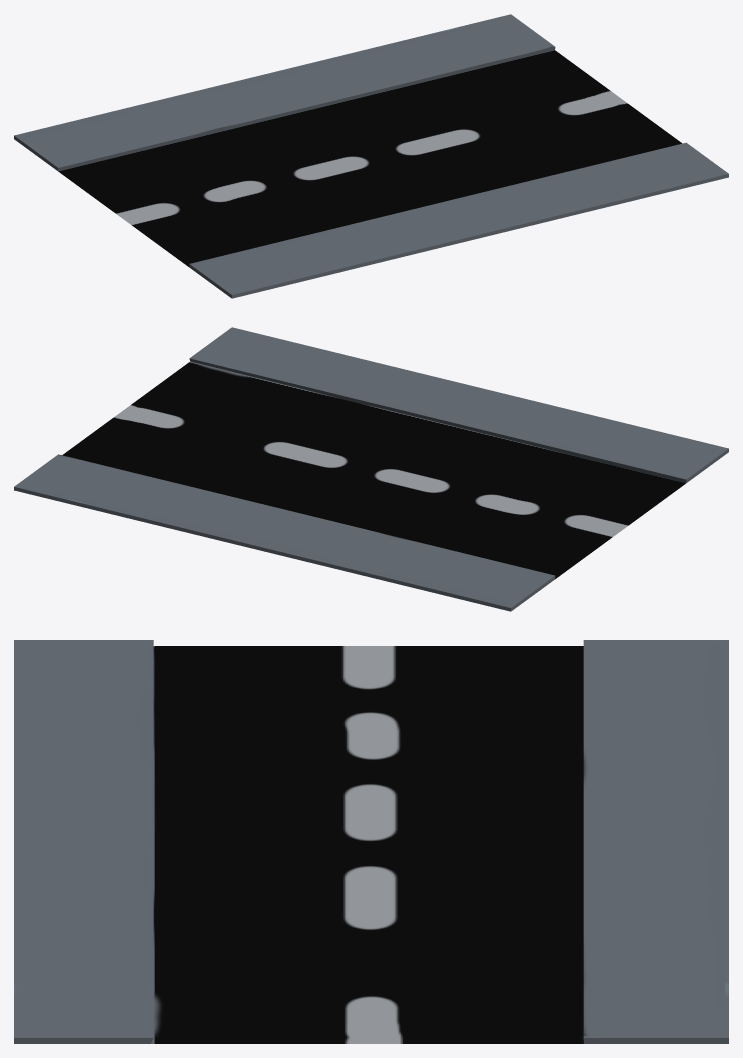
The model's file is Strt1.fbx.
3 views of the same model, one above another, from view 1: azimuth 30°, elevation 25°; view 2: azimuth 150°, elevation 25°; view 3: azimuth 270°, elevation 25° (orthographic). The views are drawn at different scales.
Visible parts, largest first — view 1: Straight; view 2: Straight; view 3: Straight.
Boxes of the visible parts, bbox=[...] form: Straight: bbox=[14, 14, 728, 298]; Straight: bbox=[14, 327, 728, 611]; Straight: bbox=[14, 640, 728, 1043].
Size of the model in its own units: 248 by 2.3 by 327.
